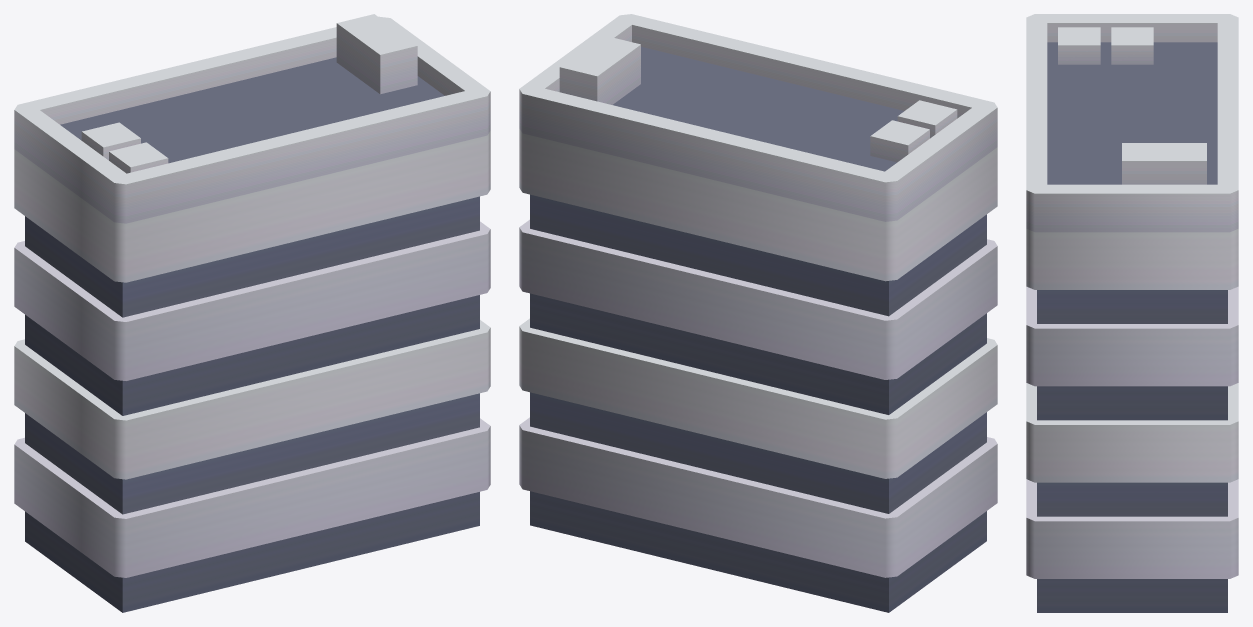
Rendered from low-detail-building-wide-b.glb.
3 views of the same model, side by side, from view 1: azimuth 30°, elevation 25°; view 2: azimuth 150°, elevation 25°; view 3: azimuth 270°, elevation 25° (orthographic). The views are drawn at different scales.
Parts seen in each view (by area): view 1: low-detail-building-wide-b; view 2: low-detail-building-wide-b; view 3: low-detail-building-wide-b.
Boxes of the visible parts, x1,y1,x2,y2 form: low-detail-building-wide-b: (14,14,490,612); low-detail-building-wide-b: (519,14,997,612); low-detail-building-wide-b: (1026,14,1238,612).
Bounding box in the file's own units: 1 × 1.15 × 0.5.
1 material, 1 textured.
